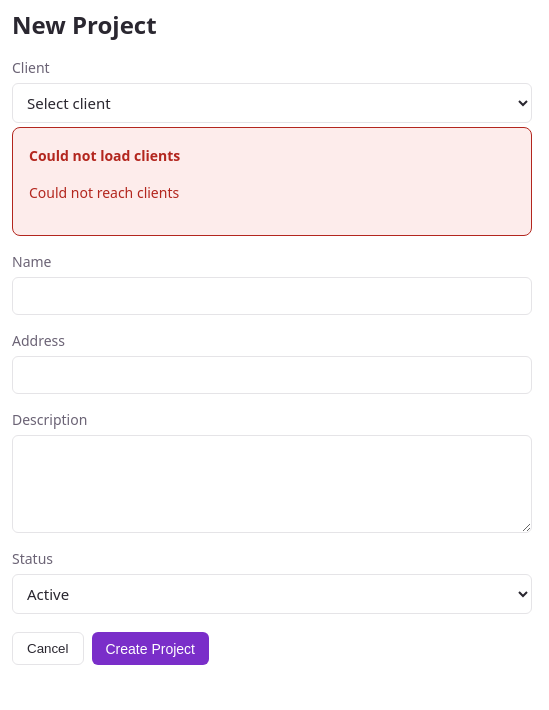
it: ProjectForm - create - client dropdown › 7. shows an error and does not allow a silent empty submission when clients fail to load
Check: the text "Could not reach clients" is shown, box [29,183,179,202]
Type "New Site" into the field labelled "Name" at (272, 296), box [12,277,532,315]
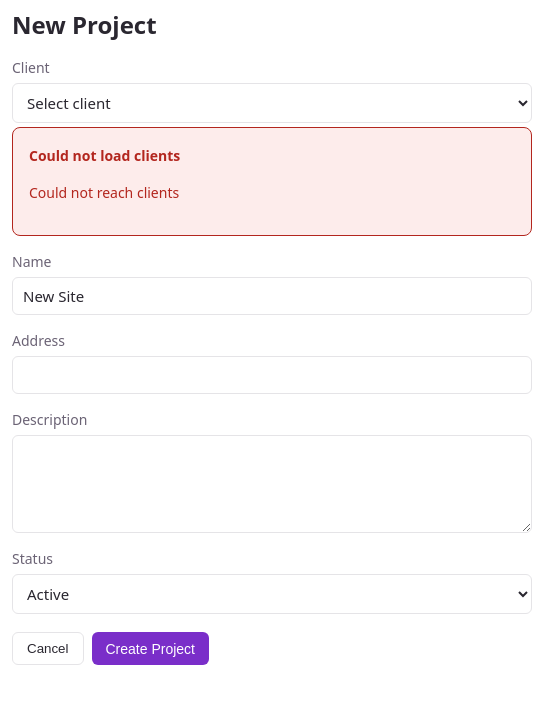
Click the button "Create Project" at (150, 649), box [92,632,209,665]
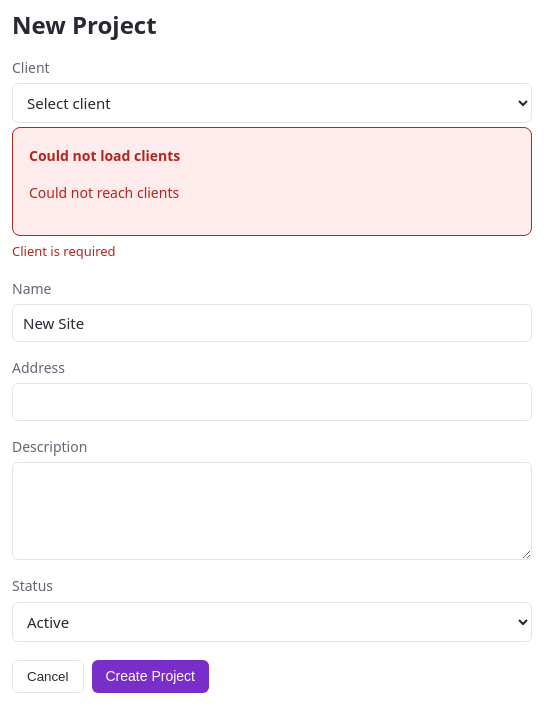
Check: the text "Client is required" is shown, box [12,242,116,260]
